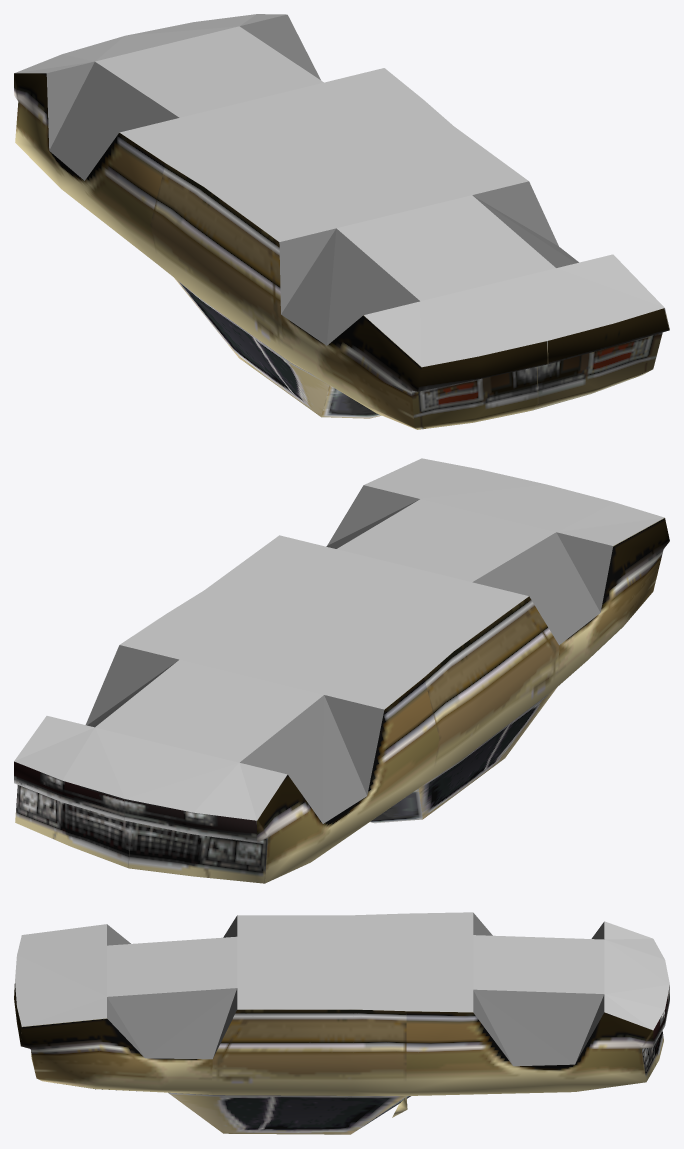
Rendered from RIO_model1_clean.obj.
The picture shows the model from 3 angles, top to bottom: view 1: azimuth 30°, elevation 25°; view 2: azimuth 150°, elevation 25°; view 3: azimuth 270°, elevation 25°; orthographic projection. The views are drawn at different scales.
Visible parts, largest first — view 1: RIO_model1_clean; view 2: RIO_model1_clean; view 3: RIO_model1_clean.
Boxes of the visible parts, box(x1,y1,x2,y2) form: RIO_model1_clean: box(14, 14, 669, 429); RIO_model1_clean: box(14, 458, 669, 883); RIO_model1_clean: box(14, 912, 669, 1134).
Bounding box in the file's own units: 268 × 160 × 670.
